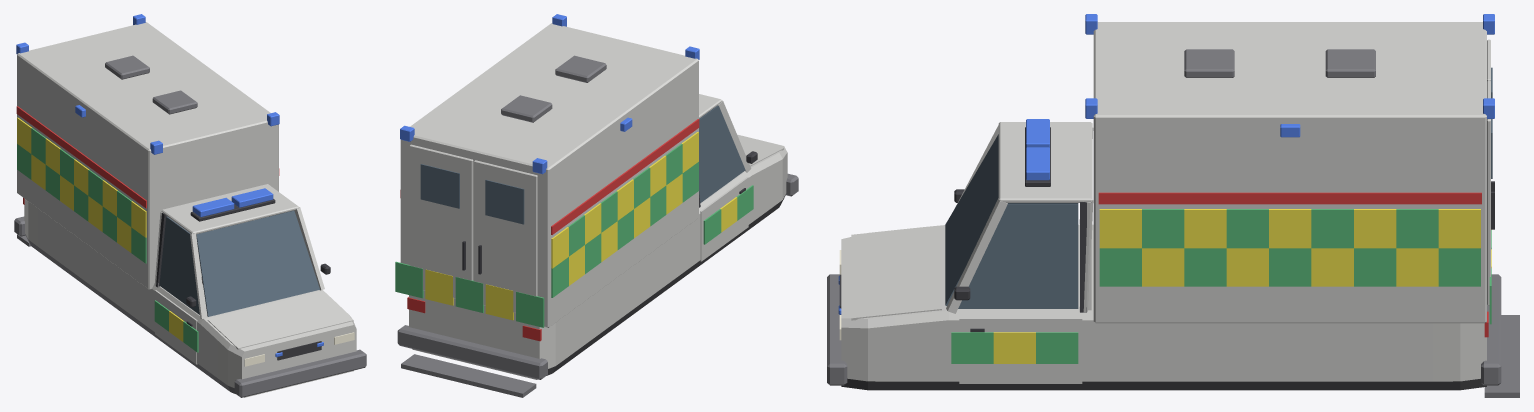
Rendered from ambulance.glb.
3 renders of one model, left to right at view 1: azimuth 30°, elevation 25°; view 2: azimuth 150°, elevation 25°; view 3: azimuth 270°, elevation 25°, orthographic. The views are drawn at different scales.
Visible parts, largest first — view 1: cargo_box, body, win_front, bonnet, chequer_yellow, chequer_green, bumper_f, win_fl, roof, stripe_red, door_fl, lens_red (+10 smaller); view 2: cargo_box, body, chequer_green, door_rear_r, door_rear_l, chequer_yellow, bumper_r, win_fl, step, stripe_red, win_rear_l, win_rear_r (+9 smaller); view 3: cargo_box, body, chequer_green, chequer_yellow, win_fr, bonnet, roof, stripe_red.001, door_fr, win_front, cab_chequer_green, step (+11 smaller).
Part boxes in pixels (bbox=[...]): cargo_box: bbox=[17, 22, 278, 289]; body: bbox=[24, 199, 356, 397]; win_front: bbox=[196, 210, 319, 316]; bonnet: bbox=[207, 291, 353, 349]; chequer_yellow: bbox=[17, 117, 146, 252]; chequer_green: bbox=[17, 128, 146, 263]; bumper_f: bbox=[234, 349, 366, 397]; win_fl: bbox=[159, 216, 199, 314]; roof: bbox=[161, 184, 299, 234]; stripe_red: bbox=[16, 106, 146, 208]; door_fl: bbox=[155, 290, 197, 364]; lens_red: bbox=[16, 42, 282, 357]; cargo_box: bbox=[400, 23, 698, 327]; body: bbox=[409, 134, 787, 379]; chequer_green: bbox=[395, 143, 698, 327]; door_rear_r: bbox=[409, 144, 473, 298]; door_rear_l: bbox=[474, 160, 537, 312]; chequer_yellow: bbox=[425, 132, 698, 320]; bumper_r: bbox=[397, 325, 547, 379]; win_fl: bbox=[699, 105, 745, 202]; step: bbox=[401, 354, 536, 397]; stripe_red: bbox=[551, 119, 699, 234]; win_rear_l: bbox=[485, 179, 524, 224]; win_rear_r: bbox=[420, 164, 459, 208]; cargo_box: bbox=[1093, 22, 1486, 323]; body: bbox=[841, 224, 1486, 390]; chequer_green: bbox=[1099, 209, 1491, 324]; chequer_yellow: bbox=[1099, 209, 1491, 286]; win_fr: bbox=[958, 204, 1078, 308]; bonnet: bbox=[851, 225, 941, 320]; roof: bbox=[998, 122, 1092, 202]; stripe_red.001: bbox=[1098, 192, 1481, 204]; door_fr: bbox=[959, 318, 1082, 383]; win_front: bbox=[945, 134, 998, 305]; cab_chequer_green: bbox=[951, 332, 1078, 363]; step: bbox=[1484, 315, 1519, 397].
Size of what is drawn, in the model's own units: 2.38 by 3.28 by 6.86.
